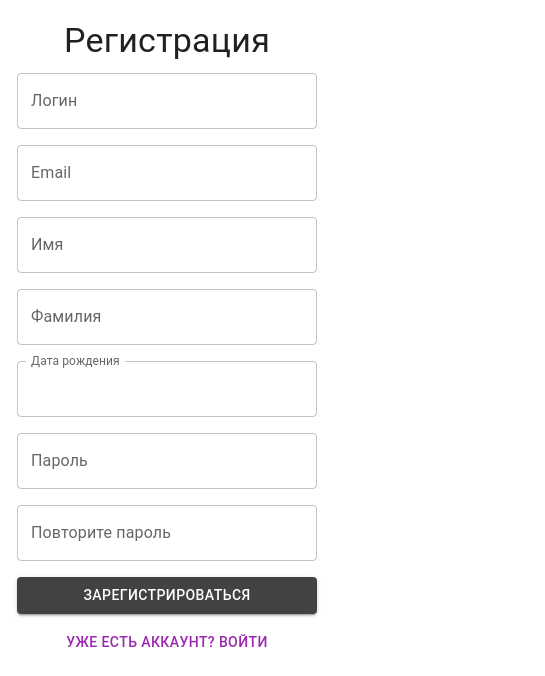
Test: Register Page › registration error during API failure
Step 1. Type "newuser" into the field labelled "Логин" → (167, 101), box left=17, top=71, right=317, bottom=131
Step 2. Type "user@example.com" into the field labelled "Email" → (167, 173), box left=17, top=143, right=317, bottom=203
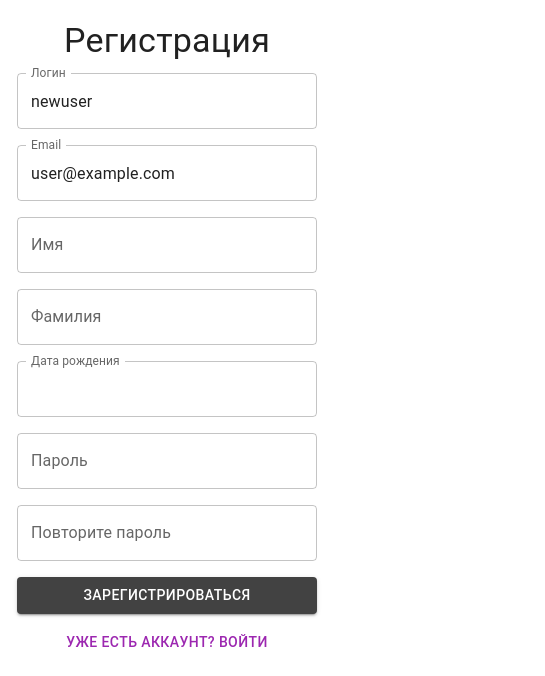
Step 3. Type "Имя" into the field labelled "Имя" → (167, 245), box left=17, top=215, right=317, bottom=275
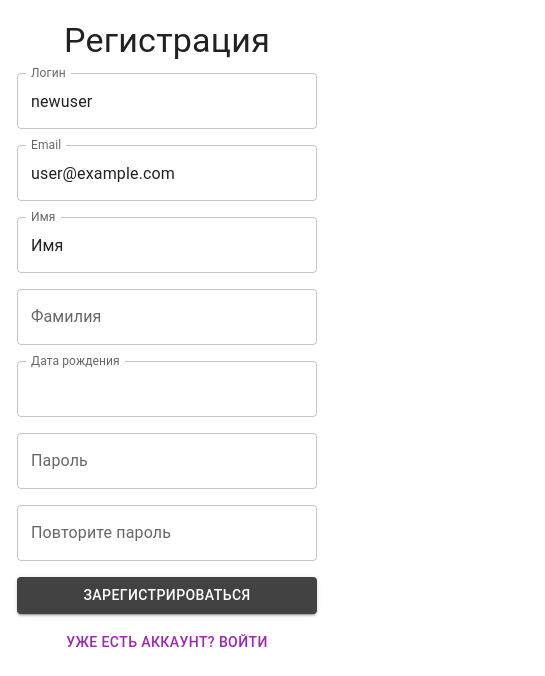
Step 4. Type "Фамилия" into the field labelled "Фамилия" → (167, 317), box left=17, top=287, right=317, bottom=347
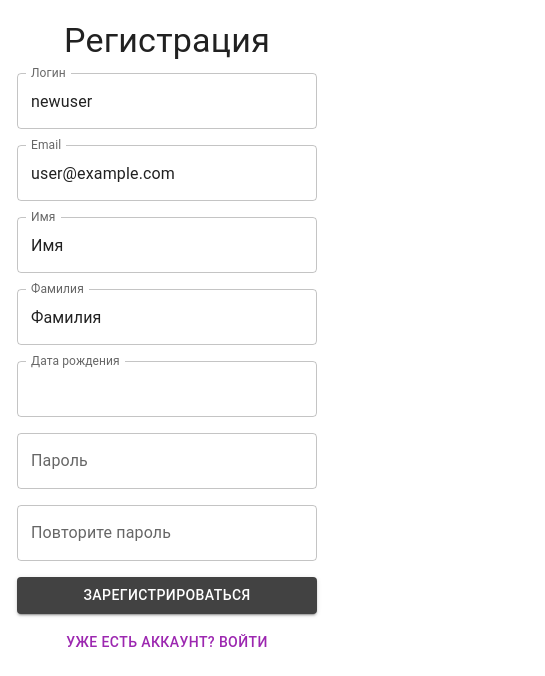
Step 5. Type "password123" into the password field labelled "Пароль" → (167, 461), box left=17, top=431, right=317, bottom=491
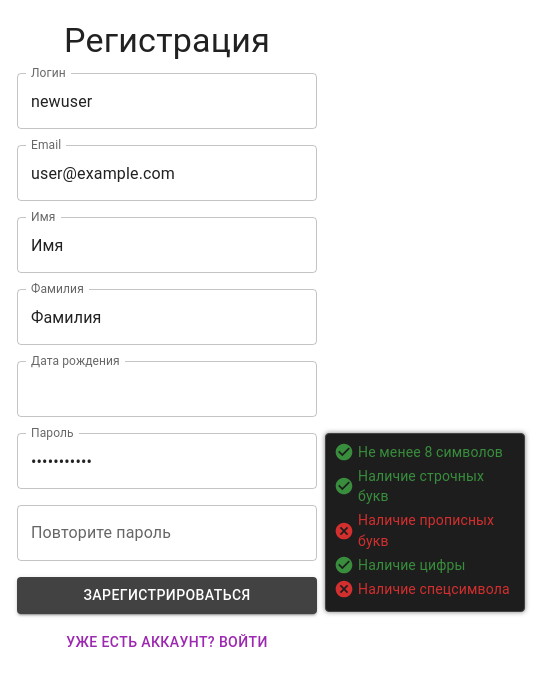
Step 6. Type "password123" into the password field labelled "Повторите пароль" → (167, 533), box left=17, top=503, right=317, bottom=563
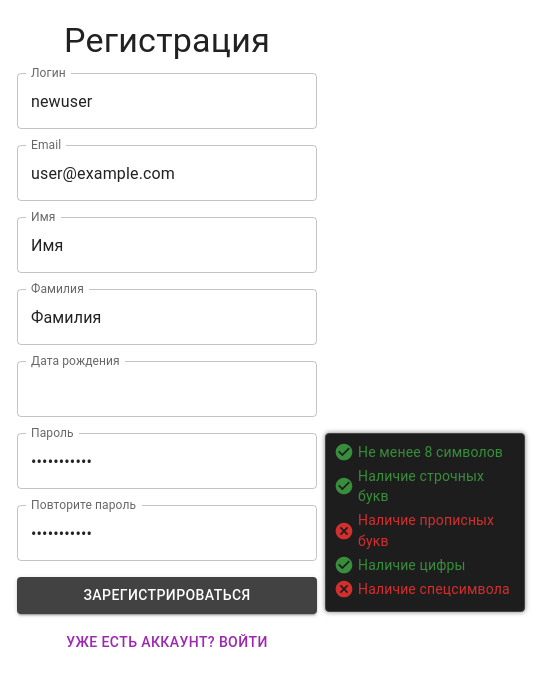
Step 7. Click the button with test id "register-submit" → (167, 596), box left=17, top=577, right=317, bottom=614
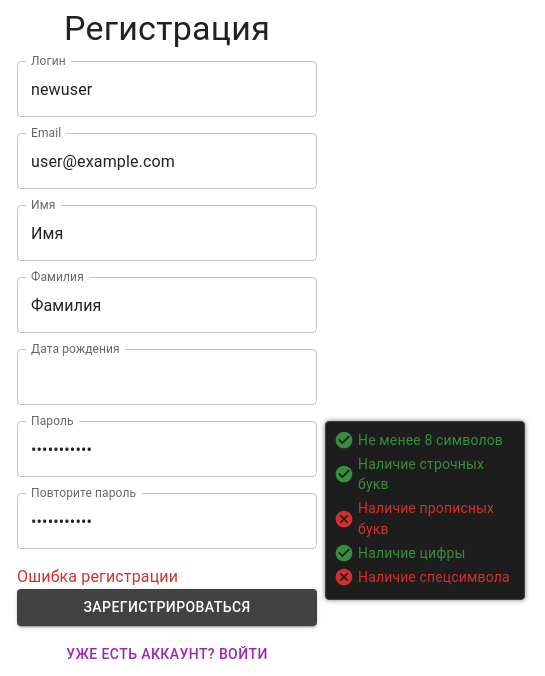
Now the text "Ошибка регистрации" is shown, box left=17, top=567, right=178, bottom=586
